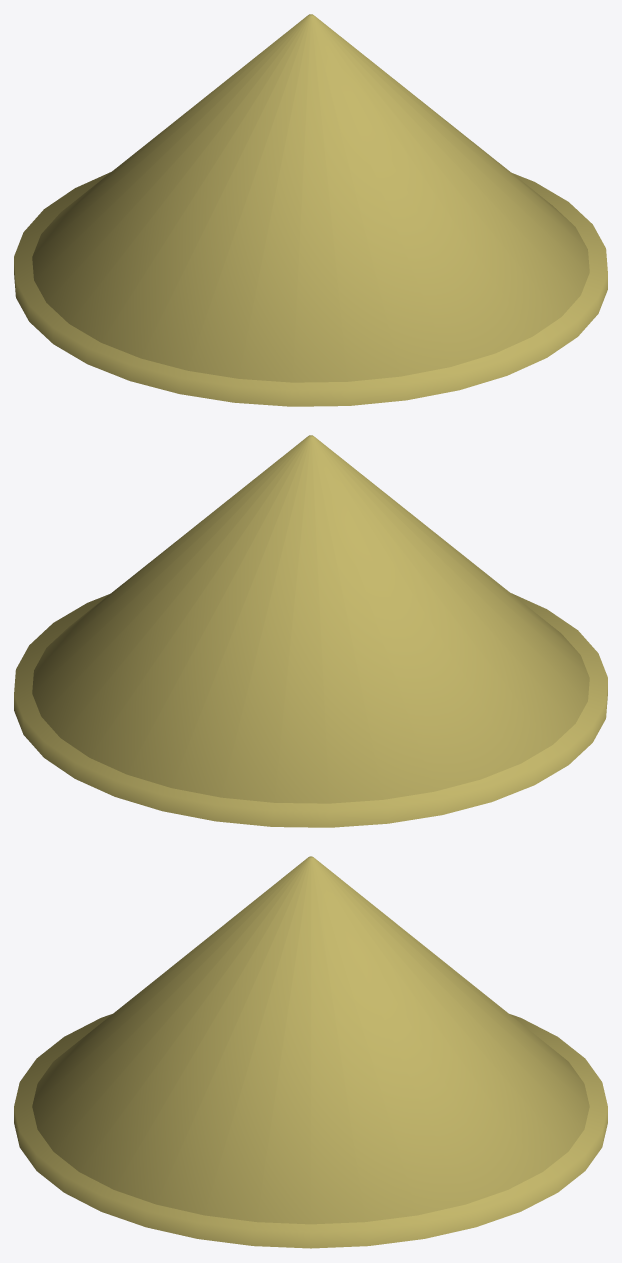
File: RisFieldHat.fbx
3 renders of one model, top to bottom at view 1: azimuth 30°, elevation 25°; view 2: azimuth 150°, elevation 25°; view 3: azimuth 270°, elevation 25°, orthographic.
Parts seen in each view (by area): view 1: Cylinder.001; view 2: Cylinder.001; view 3: Cylinder.001.
Part boxes in pixels (bbox=[...]): Cylinder.001: bbox=[14, 14, 607, 406]; Cylinder.001: bbox=[14, 435, 607, 827]; Cylinder.001: bbox=[14, 856, 607, 1248].
Bounding box in the file's own units: 246 × 121 × 246.
